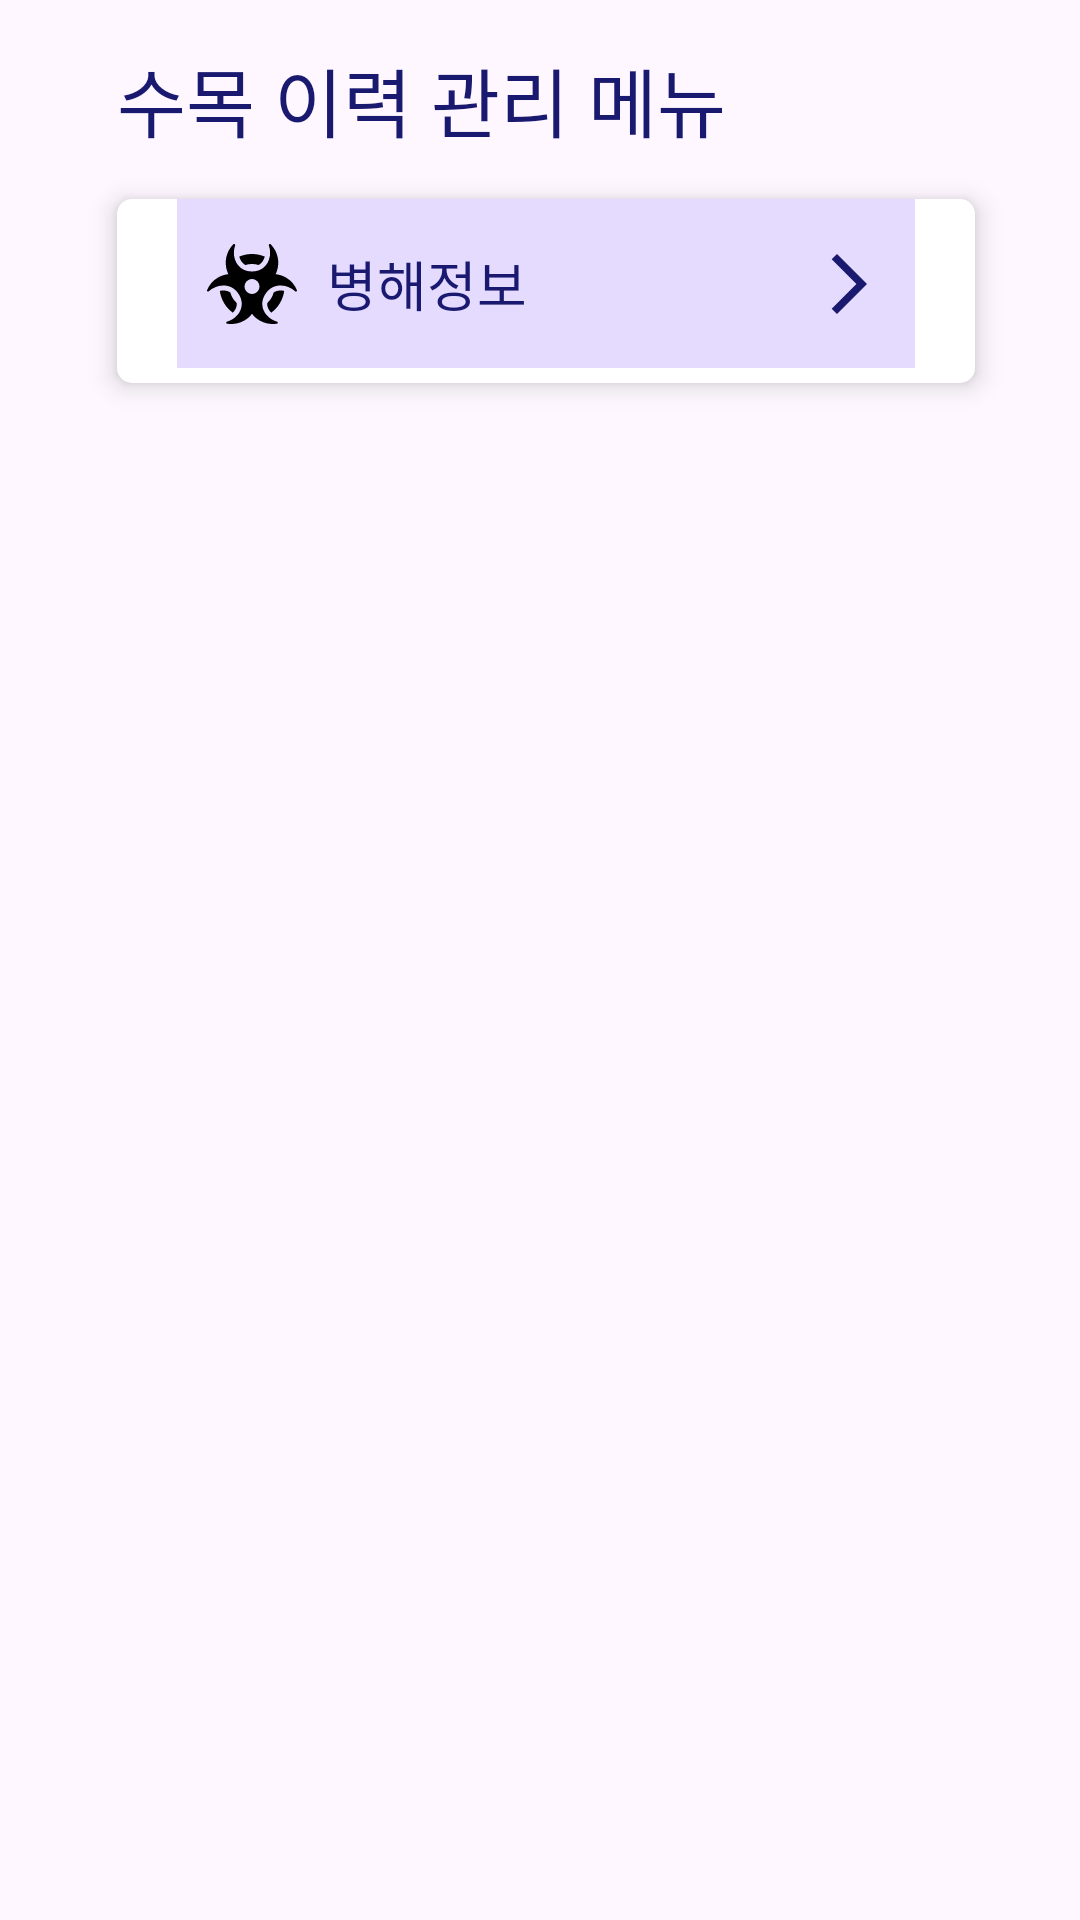

Named icons in this screenshot (1080*1920) and their centers, [x,y]:
arrow right: [849,284]
biohazard: [252,284]
